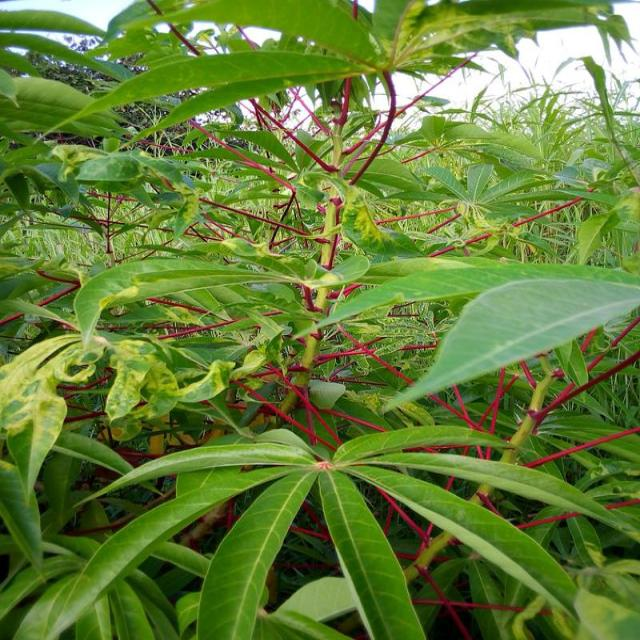cassava leaf: (2, 1, 640, 638), (381, 273, 640, 415)
